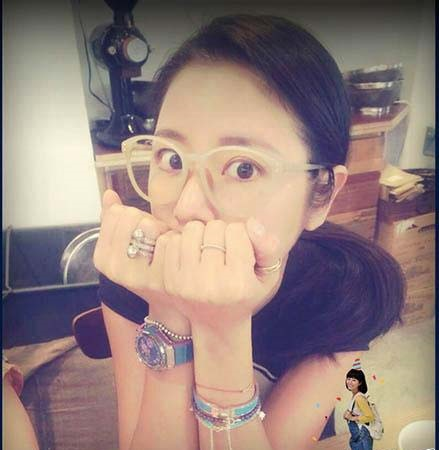face_mask: (139, 66, 304, 307), (345, 374, 358, 389)
